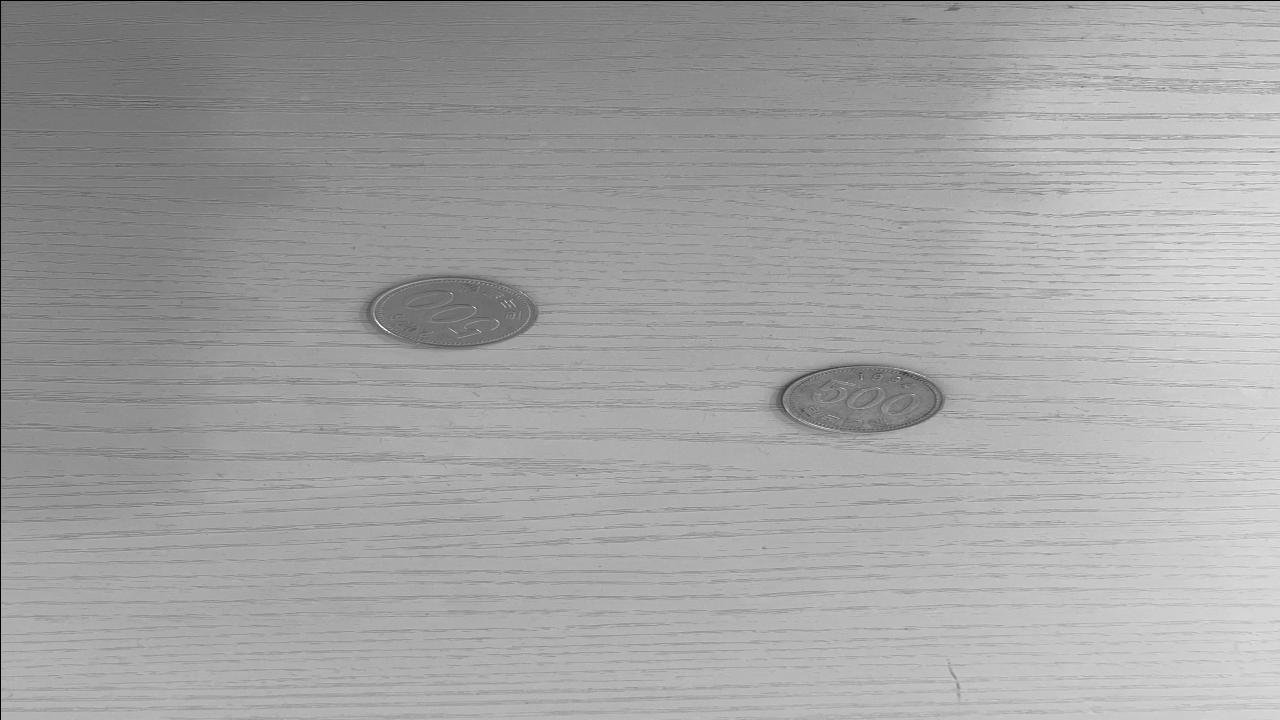coin: (360, 275, 541, 350), (778, 363, 948, 435)
